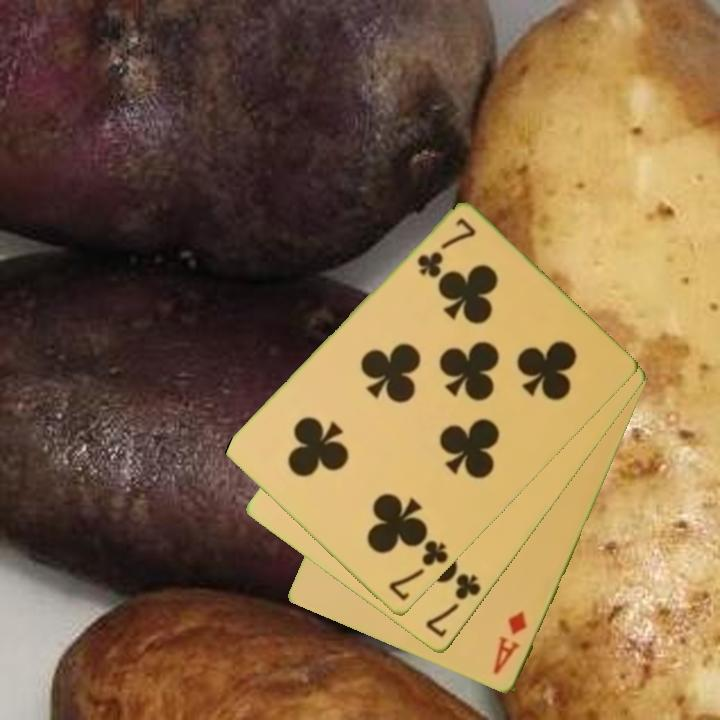7c: (413, 214, 479, 282), (385, 537, 451, 604), (422, 570, 484, 641)
Ad: (489, 608, 530, 678)
